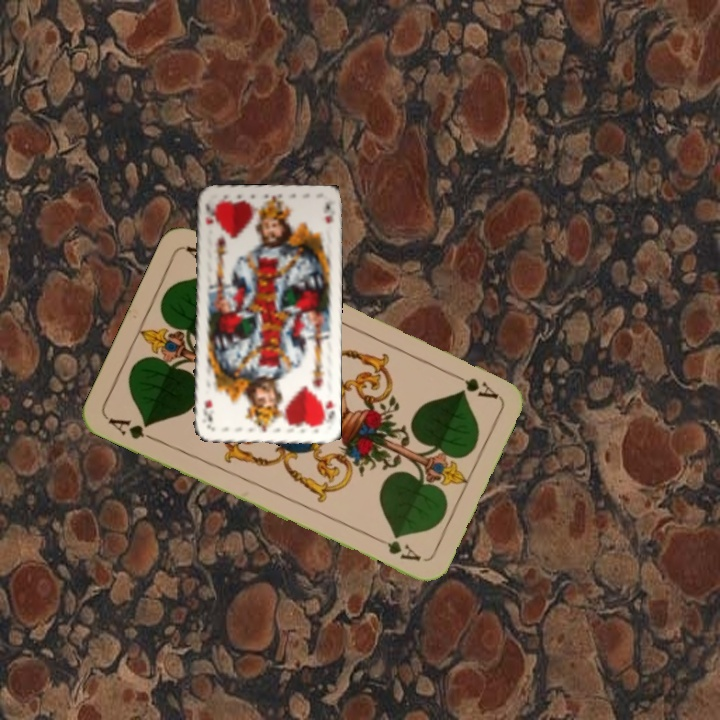GA: (445, 367, 501, 402), (104, 413, 160, 445)
HK: (317, 396, 337, 428), (200, 202, 217, 227)
